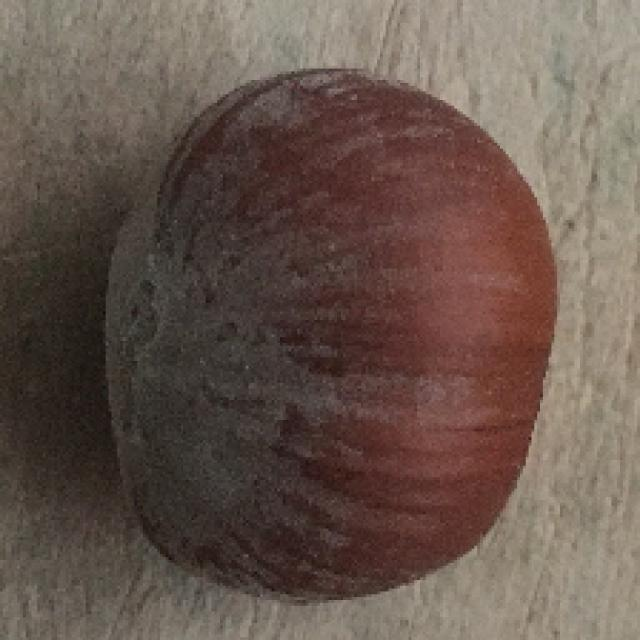QualityHazelnut: (103, 63, 559, 604)
